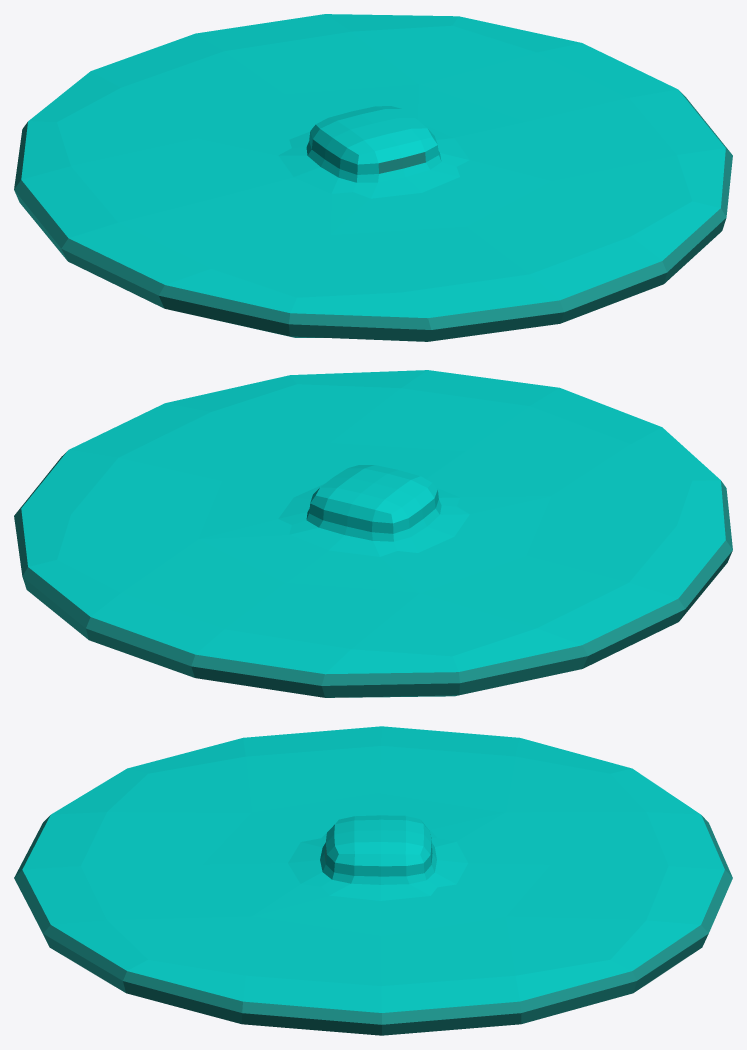
Rendered from ollaTapa.fbx.
3 renders of one model, top to bottom at view 1: azimuth 30°, elevation 25°; view 2: azimuth 150°, elevation 25°; view 3: azimuth 270°, elevation 25°, orthographic. The views are drawn at different scales.
Visible parts, largest first — view 1: ollaTapa; view 2: ollaTapa; view 3: ollaTapa.
Boxes of the visible parts, box(x1,y1,x2,y2) form: ollaTapa: box(14, 14, 732, 341); ollaTapa: box(14, 370, 732, 697); ollaTapa: box(14, 726, 732, 1035).
Bounding box in the file's own units: 76.67 × 9.85 × 79.39.
